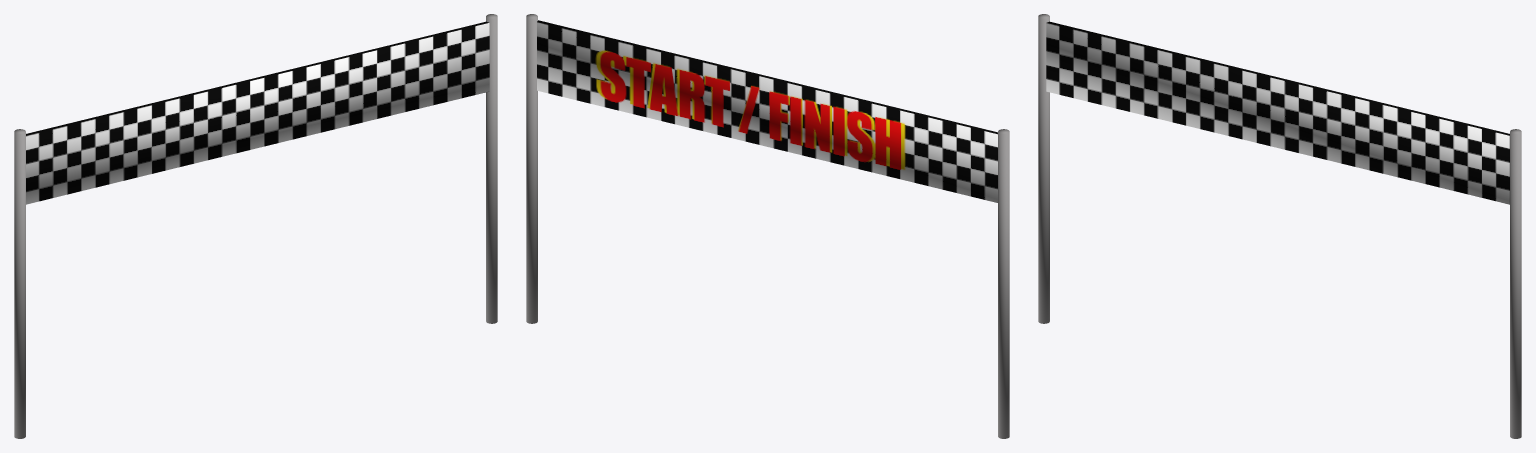
File: startFinish.fbx
3 renders of one model, left to right at view 1: azimuth 30°, elevation 25°; view 2: azimuth 150°, elevation 25°; view 3: azimuth 330°, elevation 25°, orthographic.
Visible parts, largest first — view 1: Cube_001, Cylinder_001; view 2: Cube_001, Cylinder_001; view 3: Cube_001, Cylinder_001.
Part boxes in pixels (left/top/right/bottom): Cube_001: left=26, top=21, right=489, bottom=204; Cylinder_001: left=14, top=14, right=497, bottom=438; Cube_001: left=537, top=20, right=997, bottom=202; Cylinder_001: left=526, top=14, right=1009, bottom=438; Cube_001: left=1046, top=21, right=1509, bottom=204; Cylinder_001: left=1038, top=14, right=1521, bottom=438.
Bounding box in the file's own units: 78.82 × 47.66 × 1.65.
